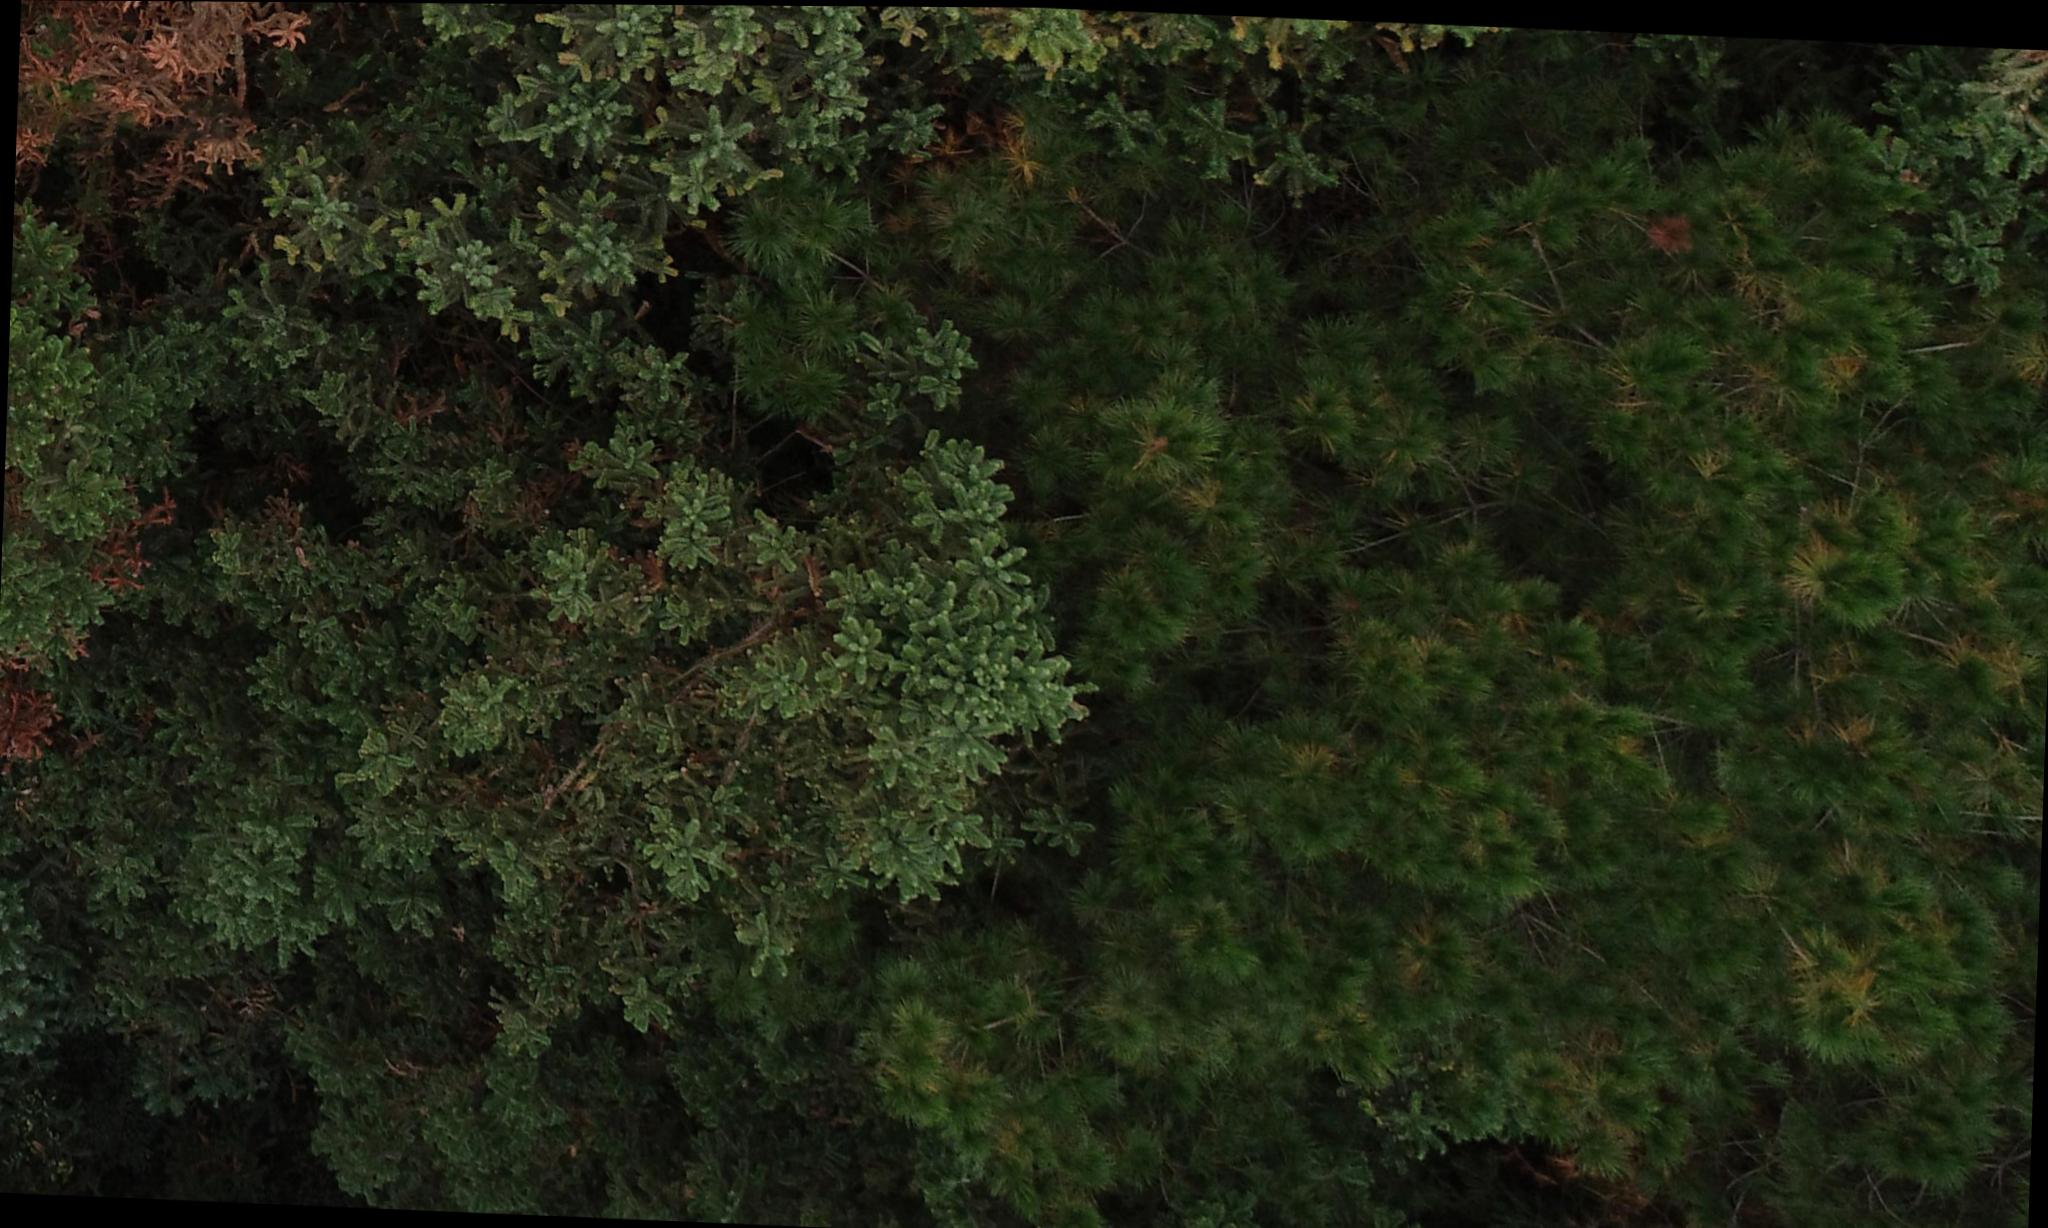light: (1123, 178, 2036, 1127)
